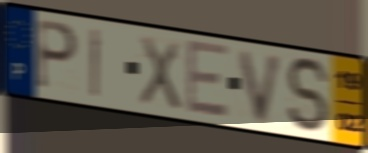E: (184, 36, 231, 120)
I: (89, 26, 103, 100)
P: (35, 17, 80, 94)
S: (284, 55, 332, 136)
V: (236, 48, 287, 127)
X: (138, 33, 183, 114)
